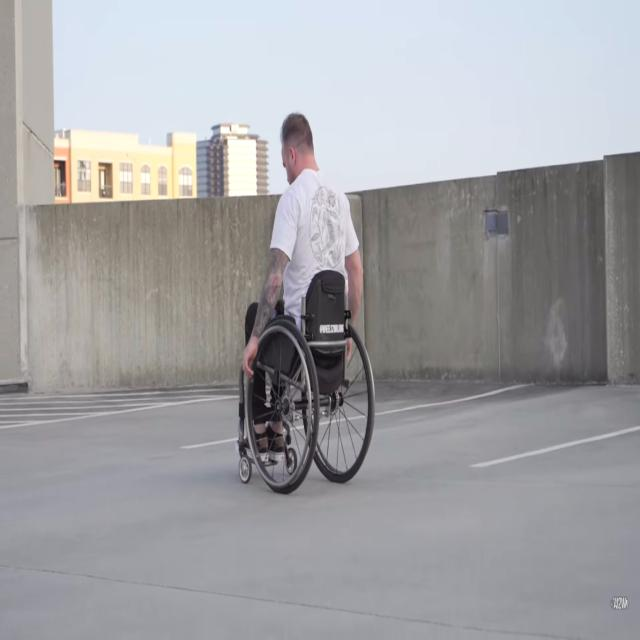wheelchairs: (242, 275, 373, 493)
